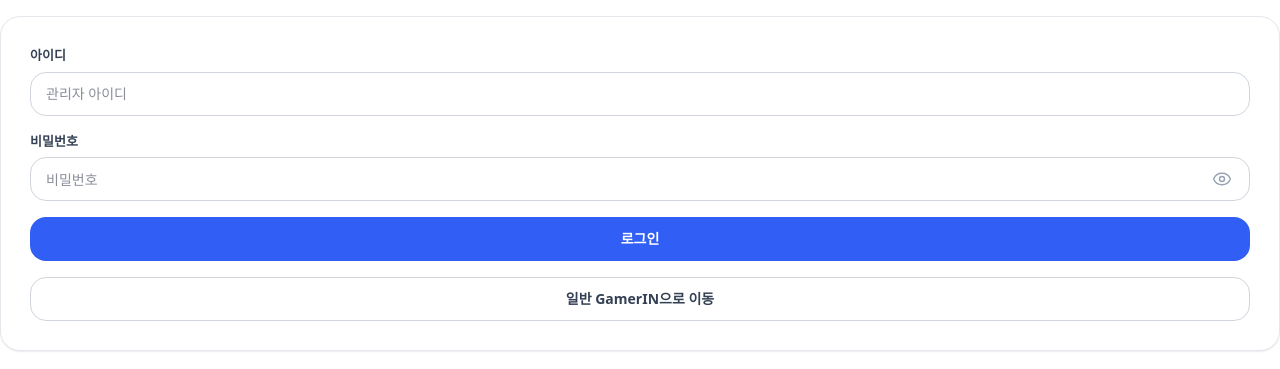
Test: AdminLoginForm › shows the login error without logging out (the session is cleaned by loginWithPassword)
Type "operator" into the field labelled "아이디" at [640, 94], box [30,72,1250,116]
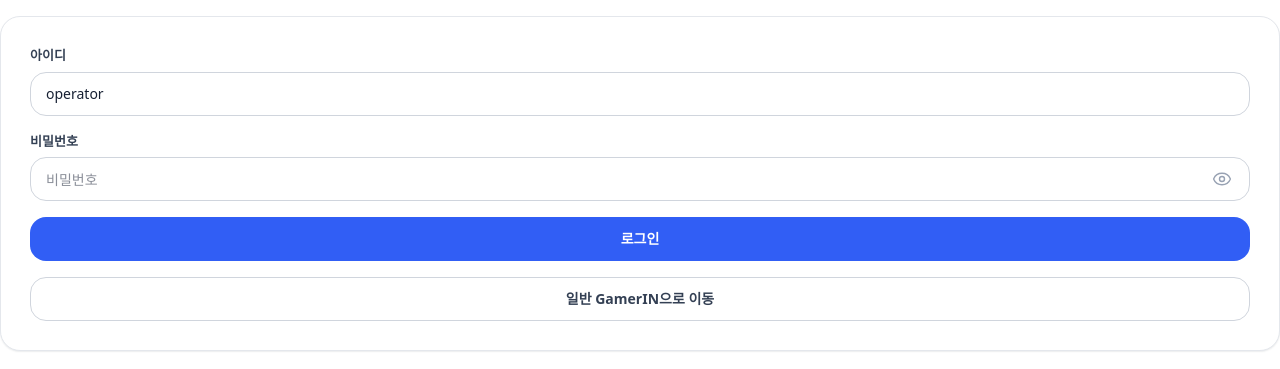
Type "password123!" into the password field labelled "비밀번호" at [640, 179], box [30,157,1250,201]
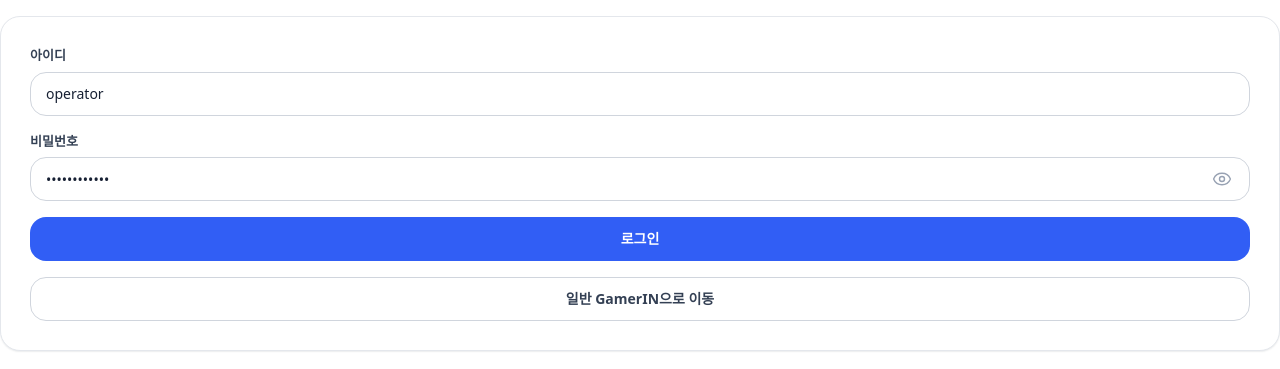
Click the button "로그인" at [640, 239], box [30,217,1250,261]
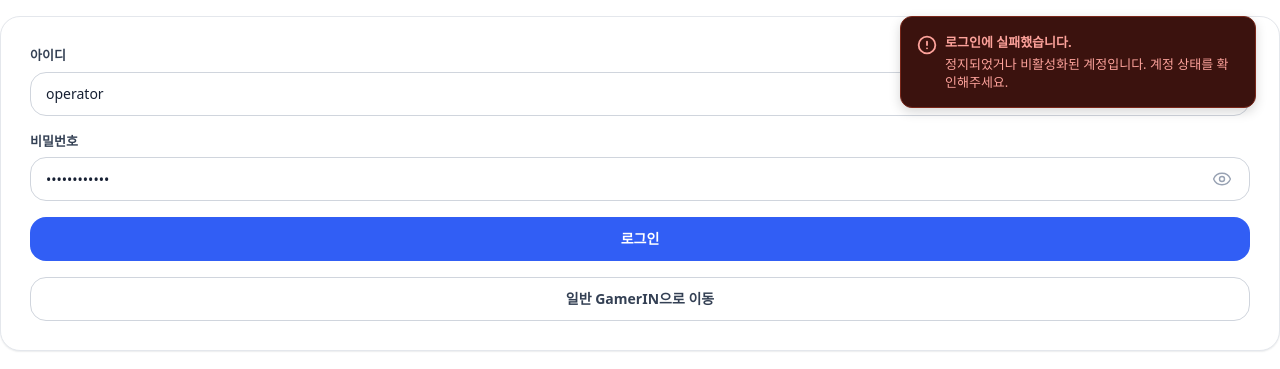
Expected: the message shows "정지되었거나 비활성화된 계정입니다.", [945,54,1228,91]
